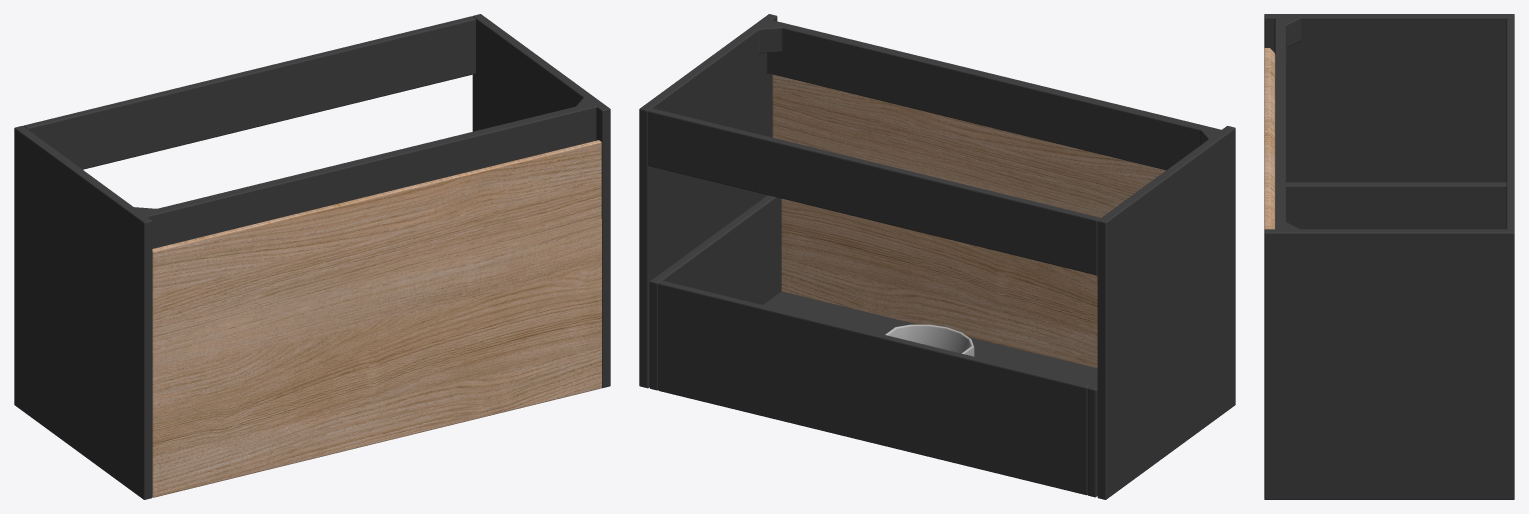
Rendered from Vanity-Cabinet-Hybrid-Pine-800mm.glb.
3 views of the same model, side by side, from view 1: azimuth 30°, elevation 25°; view 2: azimuth 150°, elevation 25°; view 3: azimuth 270°, elevation 25° (orthographic). The views are drawn at different scales.
Visible parts, largest first — view 1: VC80 1.004; view 2: VC80 1.004; view 3: VC80 1.004.
Part boxes in pixels (box(x1,y1,x2,y2)): VC80 1.004: box(14, 14, 610, 499); VC80 1.004: box(639, 14, 1235, 499); VC80 1.004: box(1264, 14, 1514, 499).
Bounding box in the file's own units: 0.8 × 0.455 × 0.386.
3 materials, 1 textured.
